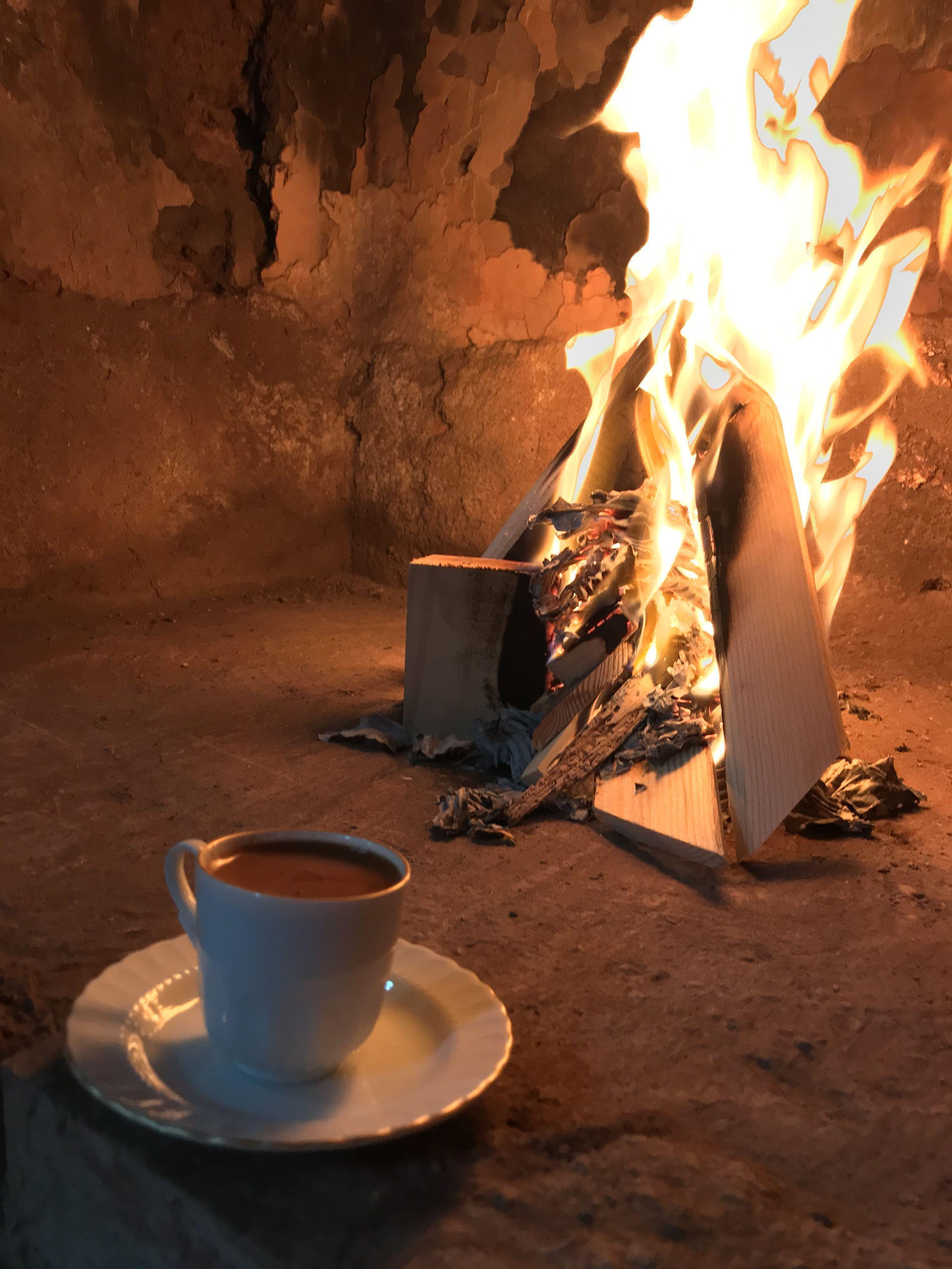cup-handle: (163, 829, 414, 1086)
